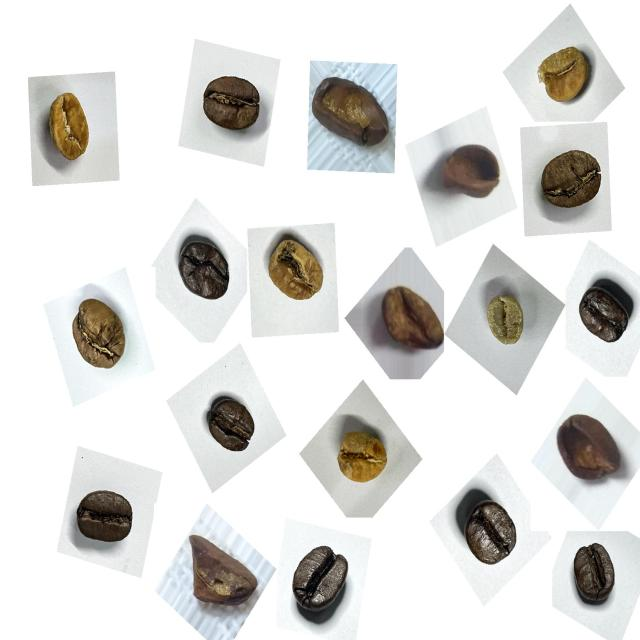bad: (304, 67, 397, 165), (182, 526, 264, 624), (548, 401, 632, 495), (370, 277, 448, 364), (431, 136, 506, 215)
dark: (285, 534, 362, 630), (452, 483, 528, 579), (68, 479, 145, 561), (171, 230, 242, 316), (568, 274, 637, 359), (563, 534, 628, 616), (198, 386, 264, 466)
green: (477, 284, 535, 359)
light: (258, 226, 332, 315), (36, 86, 104, 178), (531, 34, 601, 115), (328, 416, 397, 496)
medium: (61, 289, 137, 384), (532, 141, 612, 225)
